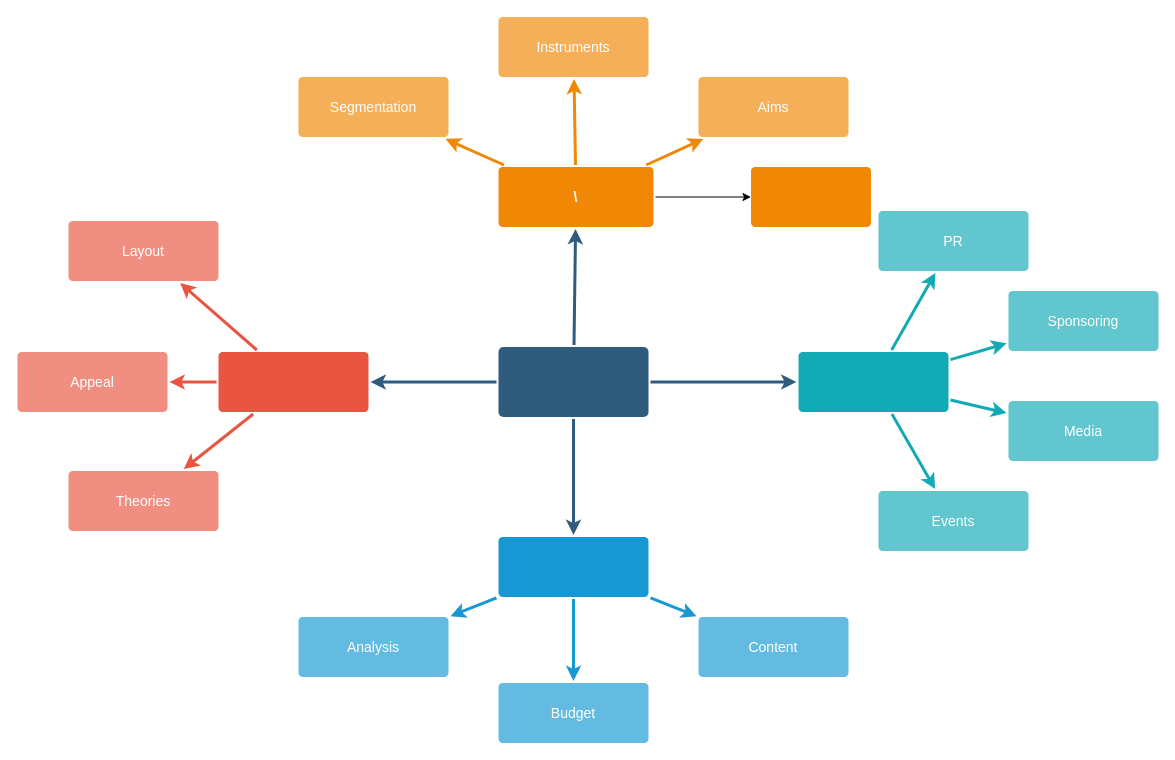
Some shapes in this 1175 by 760 pixel diagram are drawn without their labels. The shapes that lost their labels are listed below. From the top down, each one's centre as x and y in pixels, then its label:
the point at 293,382: Embassy
the point at 573,381: Advertising
the point at 873,382: Communication
the point at 573,566: Organization
